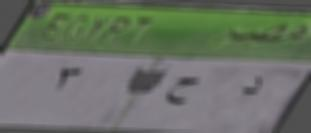3: (51, 62, 86, 99)
7aa: (159, 69, 203, 110)
daal: (236, 73, 267, 108)
